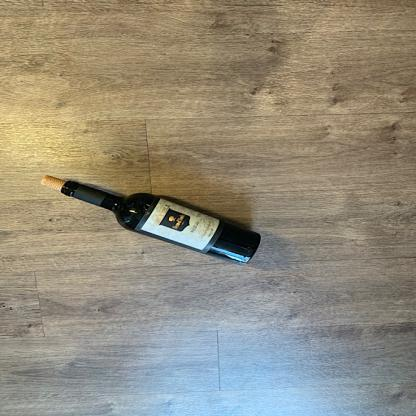trash: (61, 181, 266, 267)
